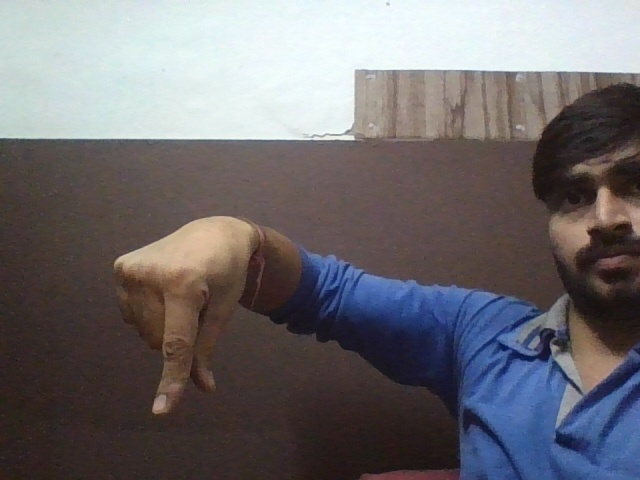Q: (100, 218, 271, 420)
